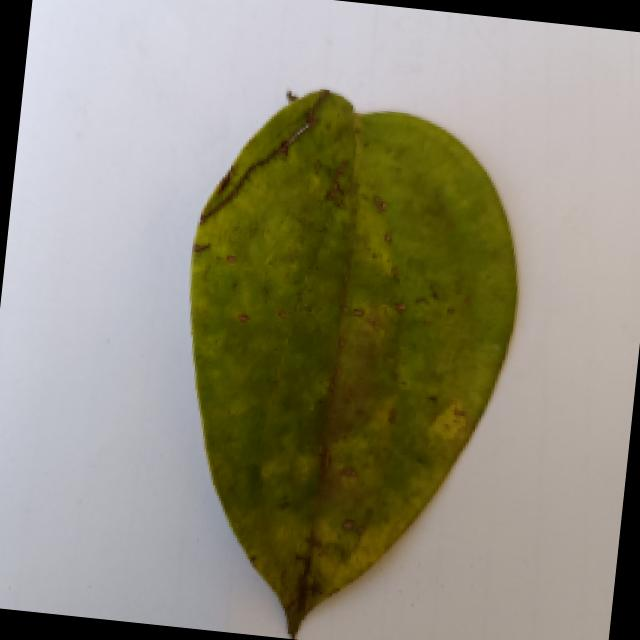slow-decline: (140, 75, 535, 640)
